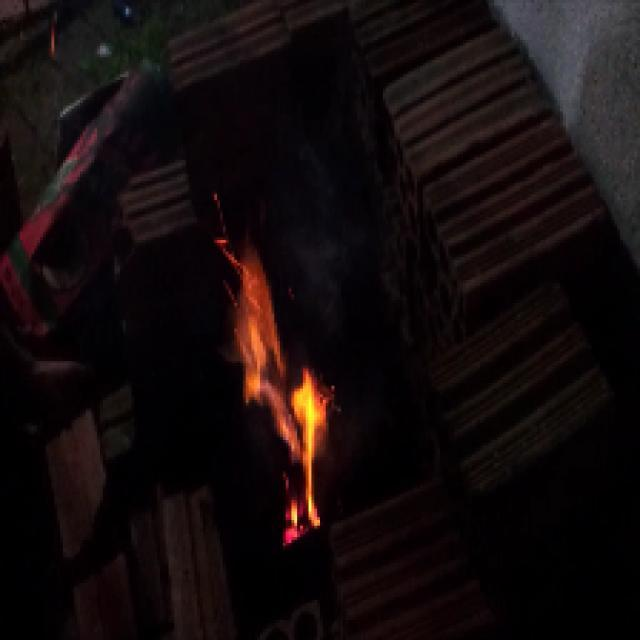Fire: (212, 240, 343, 534)
